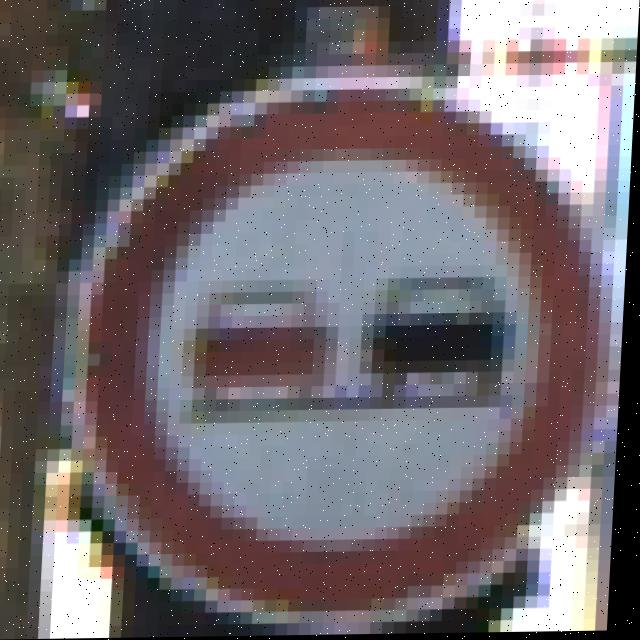no_overtaking: (40, 109, 634, 603)
